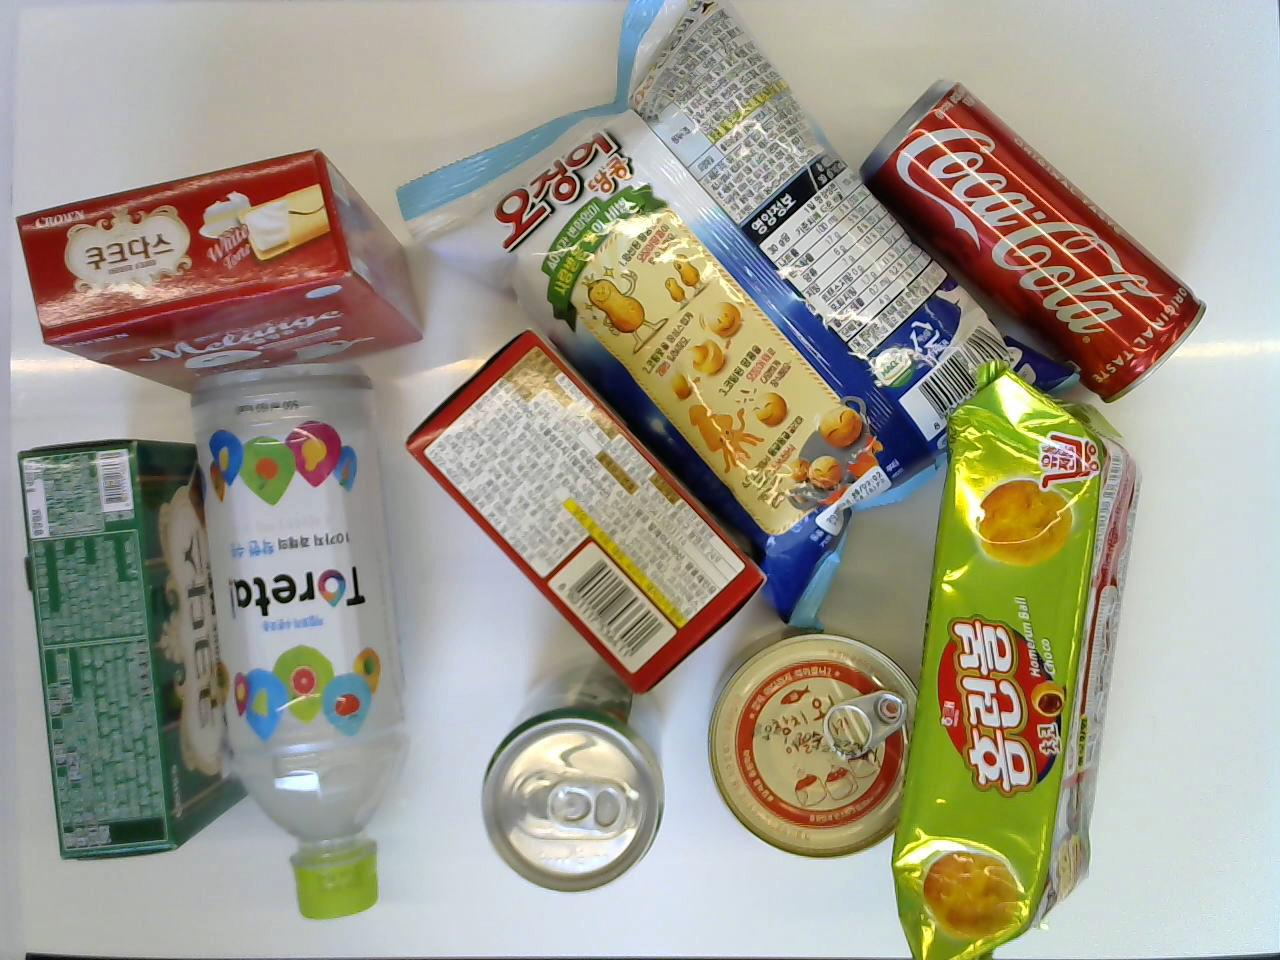chocopie: (409, 329, 766, 689)
cidar: (476, 625, 679, 901)
coke: (855, 69, 1212, 407)
couque_coffee: (9, 429, 247, 865)
couque_white: (12, 150, 431, 397)
homerunball: (884, 349, 1142, 956)
squid_peanut: (384, 0, 1091, 644)
toreta: (182, 367, 416, 923)
tuna: (703, 633, 923, 868)
